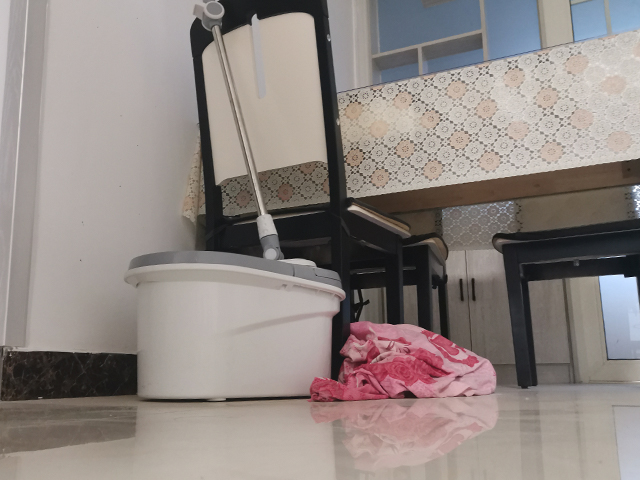cabinet: (383, 247, 574, 386)
stool: (185, 1, 451, 358), (490, 218, 640, 390)
table: (197, 24, 640, 383)
